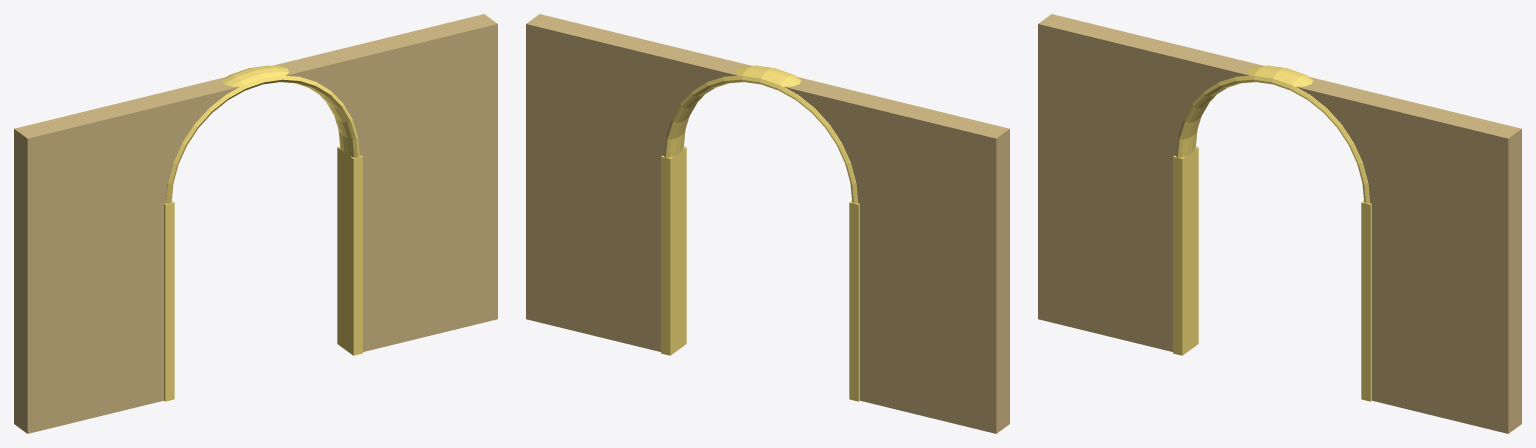
Rendered from arch_block.glb.
3 views of the same model, side by side, from view 1: azimuth 30°, elevation 25°; view 2: azimuth 150°, elevation 25°; view 3: azimuth 330°, elevation 25° (orthographic).
Visible parts, largest first — view 1: ArchBlock; view 2: ArchBlock; view 3: ArchBlock.
Part boxes in pixels (bbox=[...]): ArchBlock: bbox=[14, 14, 497, 433]; ArchBlock: bbox=[526, 14, 1009, 433]; ArchBlock: bbox=[1038, 14, 1521, 433].
Size of the model in its own units: 10 by 6.12 by 0.6.
